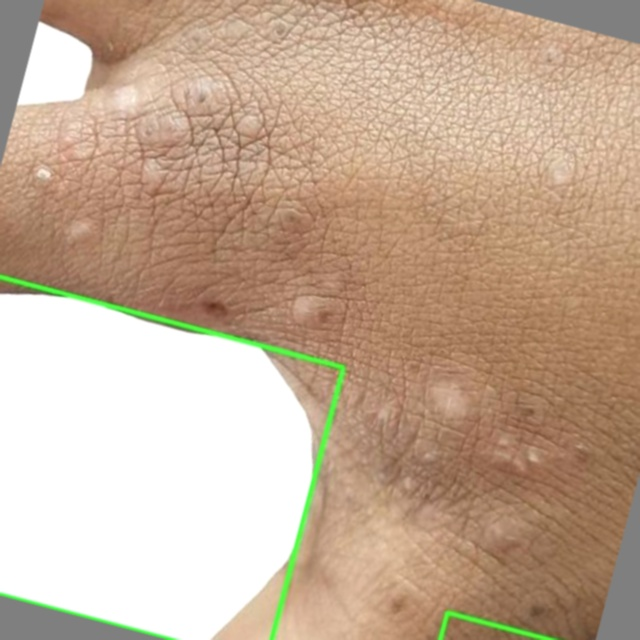Scabies: (0, 276, 343, 639)
